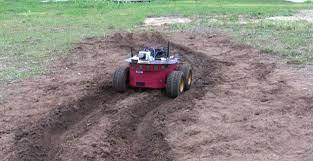vehicle_track: (22, 86, 131, 161), (117, 95, 173, 161)
